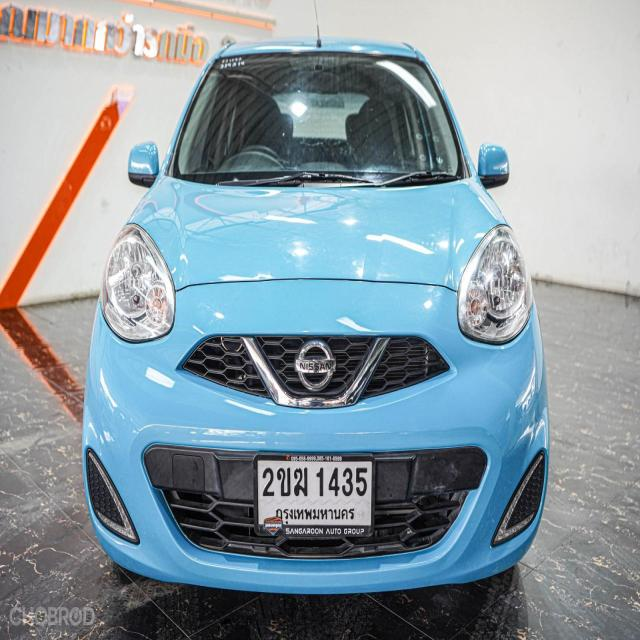license_plate: (248, 447, 380, 552)
